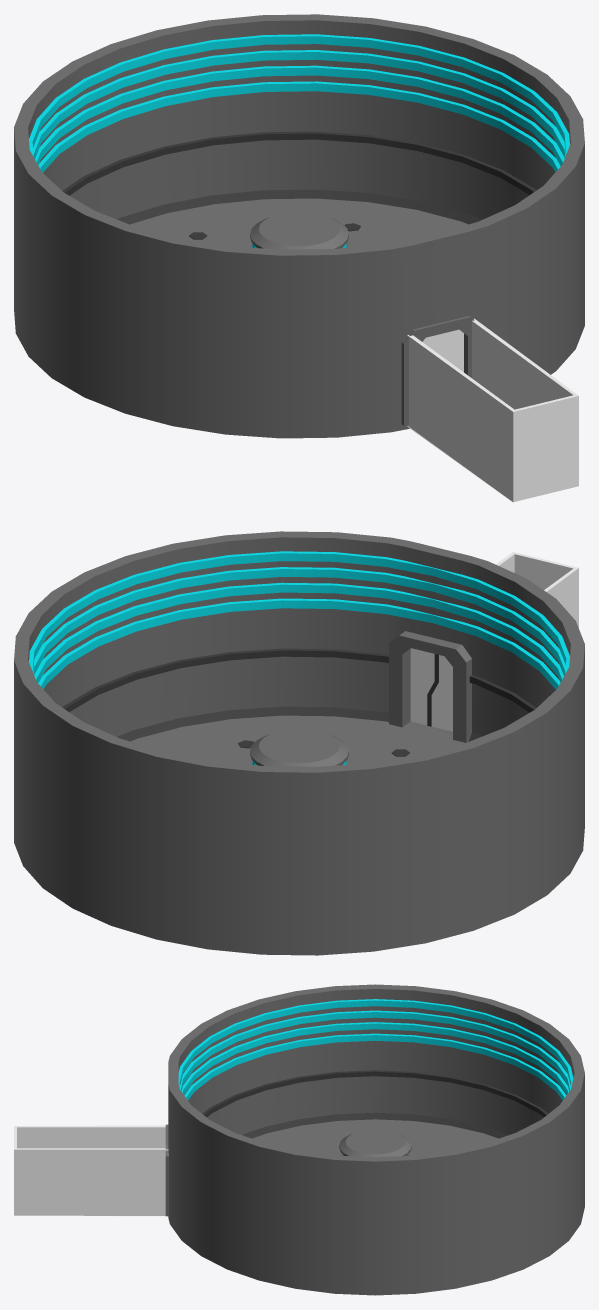
Rendered from ElevatorRoom (4).fbx.
The picture shows the model from 3 angles, top to bottom: view 1: azimuth 30°, elevation 25°; view 2: azimuth 150°, elevation 25°; view 3: azimuth 270°, elevation 25°; orthographic projection. The views are drawn at different scales.
Visible parts, largest first — view 1: Room.001, Cylinder.007, Room.015, Room.007, Room.003, Room.014, Room.016, Room.008, Door1.006; view 2: Room.001, Cylinder.007, Room.007, Room.008, Room.016, Door1.006, Door2.006, Room.003, Room.015; view 3: Room.001, Cylinder.007, Room.014, Room.007, Room.015, Room.016.
Part boxes in pixels (left/top/right/bottom): Room.001: left=14, top=14, right=584, bottom=438; Cylinder.007: left=29, top=34, right=569, bottom=248; Room.015: left=407, top=335, right=514, bottom=501; Room.007: left=130, top=198, right=468, bottom=247; Room.003: left=513, top=395, right=578, bottom=502; Room.014: left=472, top=318, right=578, bottom=409; Room.016: left=250, top=211, right=348, bottom=249; Room.008: left=401, top=316, right=474, bottom=425; Door1.006: left=435, top=329, right=463, bottom=372; Room.001: left=14, top=531, right=584, bottom=955; Cylinder.007: left=29, top=551, right=569, bottom=765; Room.007: left=131, top=715, right=468, bottom=764; Room.008: left=389, top=631, right=471, bottom=742; Room.016: left=250, top=728, right=348, bottom=766; Door1.006: left=410, top=648, right=438, bottom=725; Door2.006: left=426, top=654, right=452, bottom=731; Room.003: left=513, top=552, right=578, bottom=589; Room.015: left=544, top=568, right=578, bottom=627; Room.001: left=168, top=984, right=584, bottom=1295; Cylinder.007: left=178, top=999, right=573, bottom=1100; Room.014: left=14, top=1148, right=168, bottom=1215; Room.007: left=252, top=1119, right=498, bottom=1155; Room.015: left=14, top=1125, right=165, bottom=1148; Room.016: left=339, top=1129, right=411, bottom=1157.
Size of the model in its own units: 1941 by 878 by 2644.
1 material, 1 textured.
